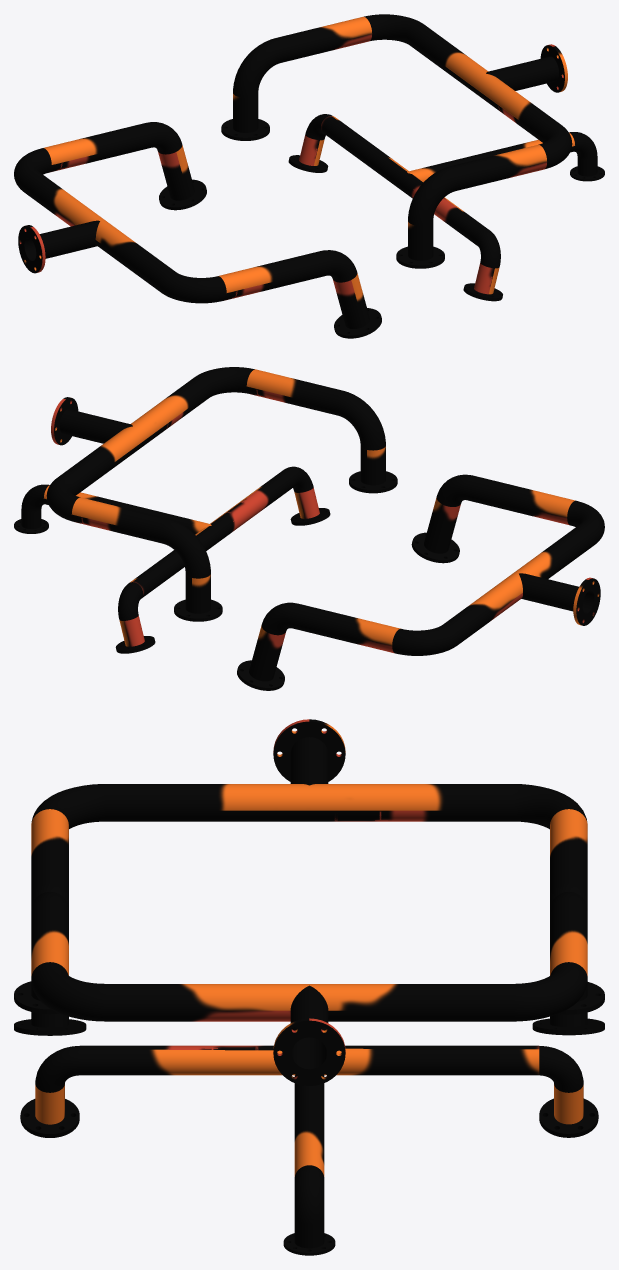
3 renders of one model, top to bottom at view 1: azimuth 30°, elevation 25°; view 2: azimuth 150°, elevation 25°; view 3: azimuth 270°, elevation 25°, orthographic. The views are drawn at different scales.
Parts seen in each view (by area): view 1: Пятый блок\Труба входящая, Пятый блок\Труба входящая (2), Пятый блок\Потрубок выходной из ад; view 2: Пятый блок\Труба входящая, Пятый блок\Труба входящая (2), Пятый блок\Потрубок выходной из ад; view 3: Пятый блок\Труба входящая, Пятый блок\Труба входящая (2), Пятый блок\Потрубок выходной из ад.
Boxes of the visible parts, left/top/right/bottom form: Пятый блок\Труба входящая: left=14, top=122, right=381, bottom=338; Пятый блок\Труба входящая (2): left=221, top=14, right=572, bottom=268; Пятый блок\Потрубок выходной из ад: left=288, top=114, right=604, bottom=301; Пятый блок\Труба входящая: left=237, top=474, right=604, bottom=690; Пятый блок\Труба входящая (2): left=46, top=367, right=397, bottom=621; Пятый блок\Потрубок выходной из ад: left=14, top=466, right=330, bottom=653; Пятый блок\Труба входящая: left=14, top=719, right=604, bottom=1035; Пятый блок\Труба входящая (2): left=14, top=891, right=604, bottom=1085; Пятый блок\Потрубок выходной из ад: left=20, top=1045, right=598, bottom=1255.
Bounding box in the file's own units: 264350 × 66558 × 159500.
